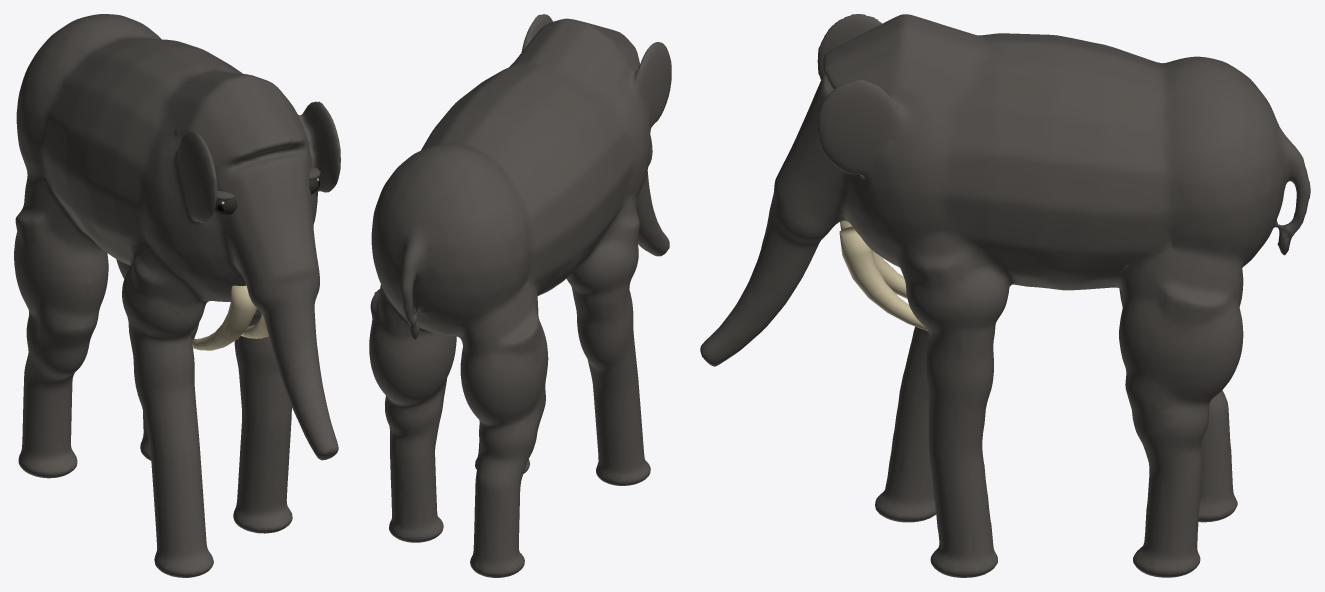
Rendered from DeinotheriumGiganteum.fbx.
The picture shows the model from 3 angles, left to right: view 1: azimuth 30°, elevation 25°; view 2: azimuth 150°, elevation 25°; view 3: azimuth 270°, elevation 25°; orthographic projection. The views are drawn at different scales.
Parts seen in each view (by area): view 1: DeinotheriumGiganteum; view 2: DeinotheriumGiganteum; view 3: DeinotheriumGiganteum.
Part boxes in pixels (x1,y1,x2,y2): DeinotheriumGiganteum: (14,14,340,577); DeinotheriumGiganteum: (369,14,671,577); DeinotheriumGiganteum: (700,14,1310,577).
Bounding box in the file's own units: 0.7074 × 1.85 × 1.96.
